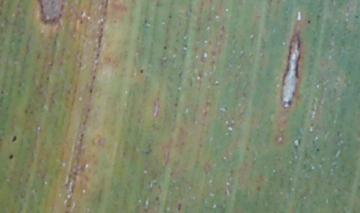tarspot: (7, 152, 15, 161), (176, 201, 182, 212), (223, 104, 230, 113), (10, 135, 18, 142), (254, 184, 261, 192), (88, 86, 94, 95), (162, 44, 169, 51), (154, 195, 161, 202), (244, 144, 250, 152), (138, 67, 144, 74), (90, 73, 96, 80), (172, 101, 179, 107), (167, 12, 172, 20), (306, 18, 311, 25), (314, 147, 321, 152), (353, 14, 359, 18)
